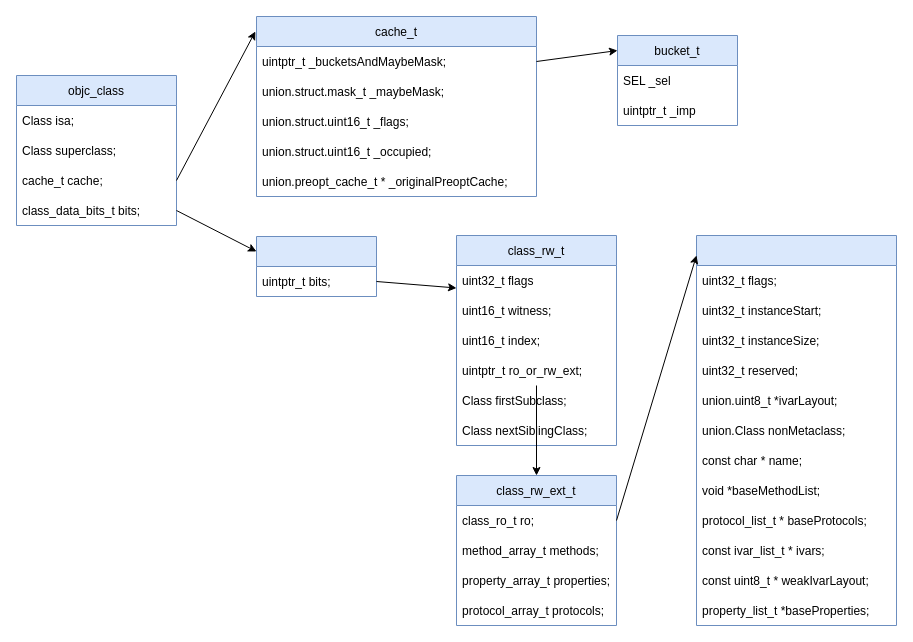
Image size: 913x642. Some labels were removed from this diagram. The box of each missing label's shape, as (x1, y1, x2, y2) in pixels:
class_data_bits_t: (256, 236, 376, 296)
class_ro_t: (696, 234, 896, 626)
